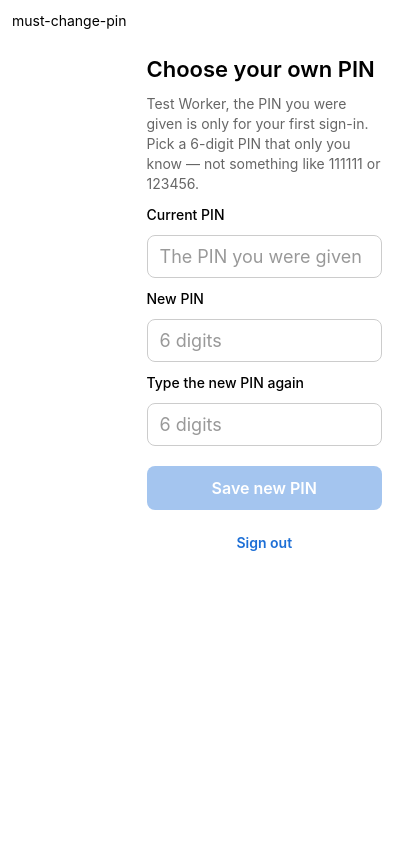
Test: ChangePinScreen › a wrong current PIN says so plainly
Expected: the text "Choose your own PIN" is shown, top-left (146, 56), bottom-right (382, 82)
In the password field with placeholder "The PIN you were given": {"x": 264, "y": 256} top-left (146, 235), bottom-right (382, 278), type "000000"
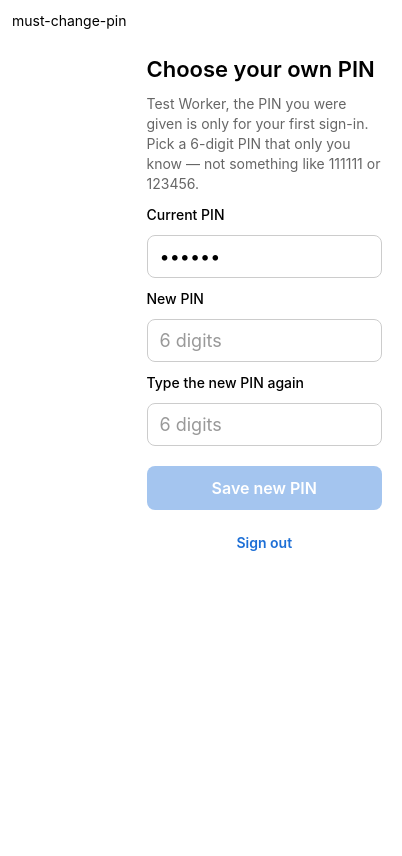
In the 1st password field with placeholder "6 digits": {"x": 264, "y": 340} top-left (146, 319), bottom-right (382, 362), type "730154"
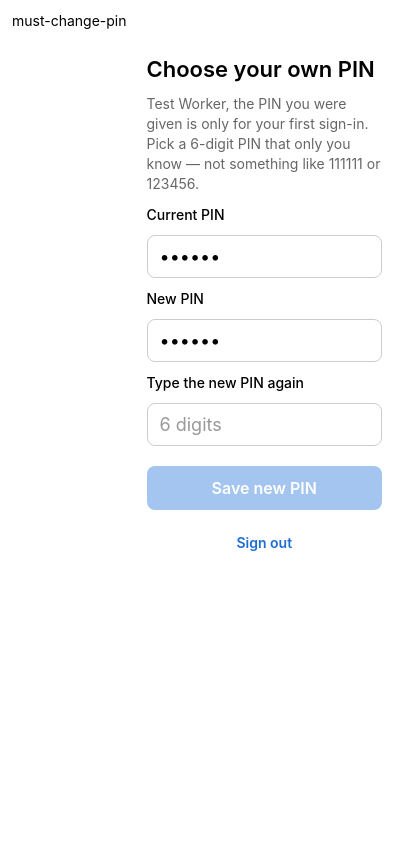
In the password field with placeholder "6 digits": {"x": 264, "y": 424} top-left (146, 403), bottom-right (382, 446), type "730154"
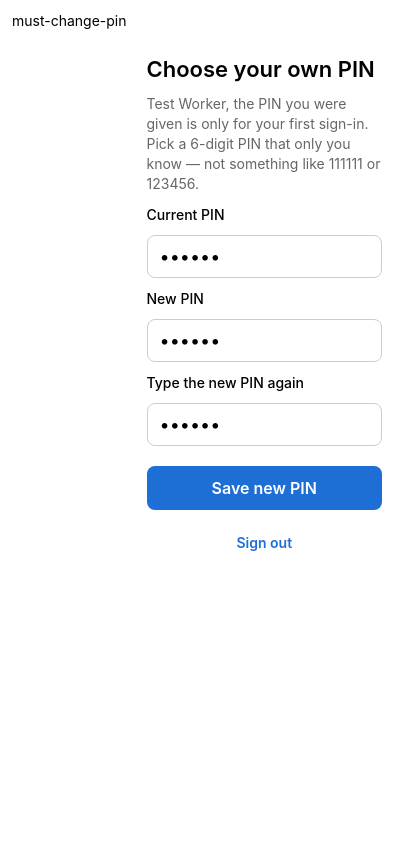
Click the button "Save new PIN": {"x": 264, "y": 488} top-left (146, 466), bottom-right (382, 510)
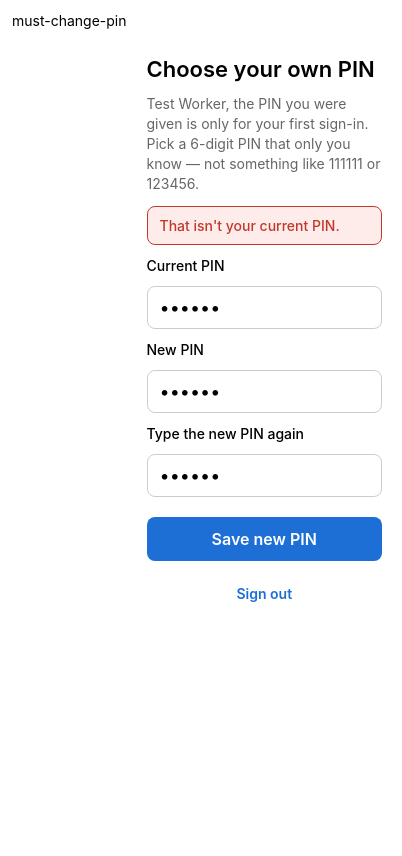
Expected: the text "That isn't your current PIN." is shown, top-left (160, 217), bottom-right (369, 234)
